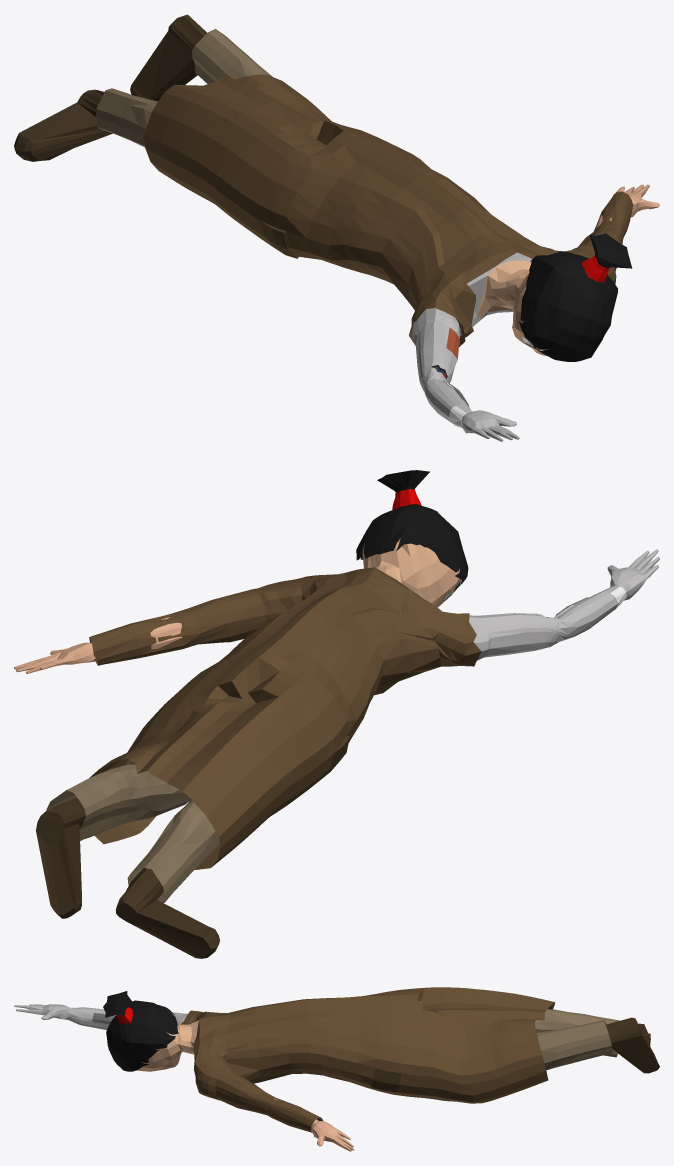
The model's file is One_Die_000050.obj.
3 views of the same model, one above another, from view 1: azimuth 30°, elevation 25°; view 2: azimuth 150°, elevation 25°; view 3: azimuth 270°, elevation 25° (orthographic). The views are drawn at different scales.
Parts seen in each view (by area): view 1: Hair_Cube.004; view 2: Hair_Cube.004; view 3: Hair_Cube.004.
Boxes of the visible parts, x1,y1,x2,y2 form: Hair_Cube.004: [14, 14, 659, 441]; Hair_Cube.004: [14, 470, 659, 958]; Hair_Cube.004: [14, 987, 659, 1151].
Size of the model in its own units: 2.34 by 0.8947 by 4.69.
